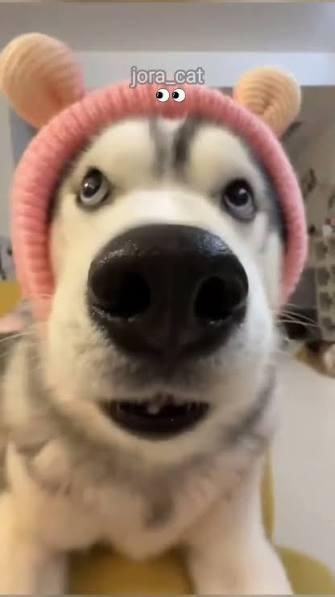adult_dog: (0, 110, 294, 597)
